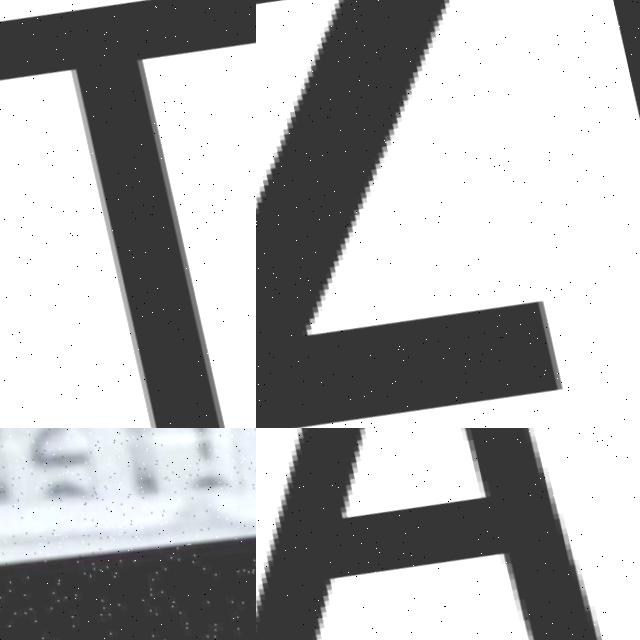1: (143, 428, 243, 473)
2: (1, 428, 93, 477)
A: (256, 428, 621, 640)
T: (0, 0, 256, 428)
Z: (256, 0, 561, 428)
